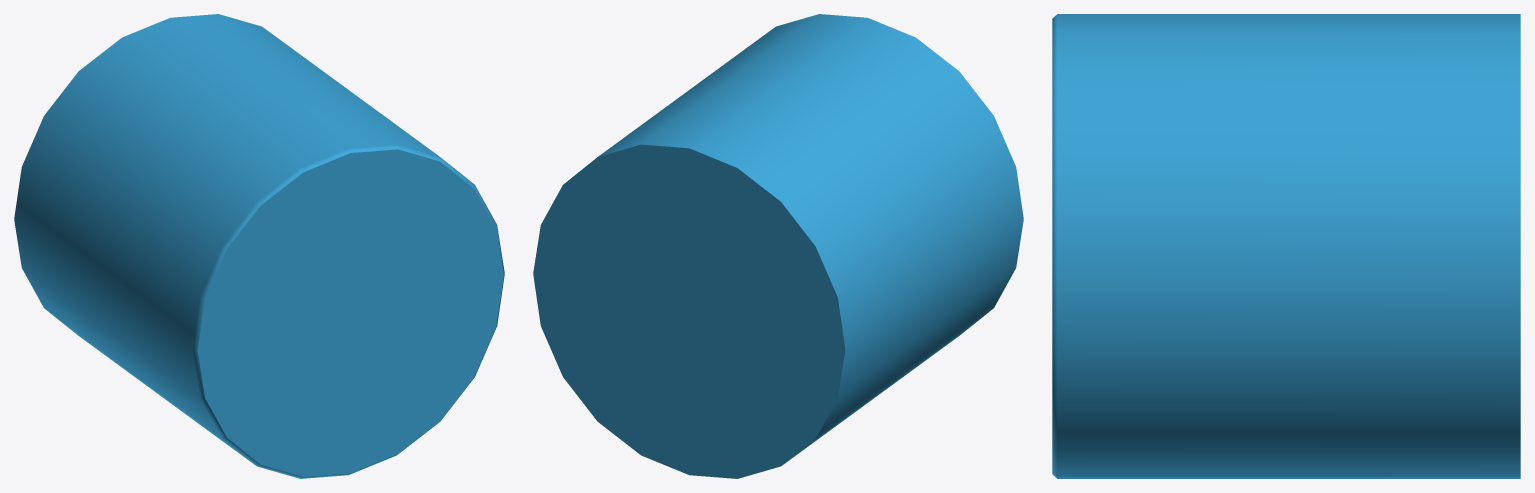
File: Gear_Base_Diam_2.fbx
3 views of the same model, side by side, from view 1: azimuth 30°, elevation 25°; view 2: azimuth 150°, elevation 25°; view 3: azimuth 270°, elevation 25° (orthographic). The views are drawn at different scales.
Parts seen in each view (by area): view 1: Gear_Base_Diam_2; view 2: Gear_Base_Diam_2; view 3: Gear_Base_Diam_2.
Part boxes in pixels (box(x1,y1,x2,y2)): Gear_Base_Diam_2: box(14, 14, 504, 478); Gear_Base_Diam_2: box(533, 14, 1023, 478); Gear_Base_Diam_2: box(1052, 14, 1520, 478).
Bounding box in the file's own units: 4.15 × 4.15 × 4.15.
